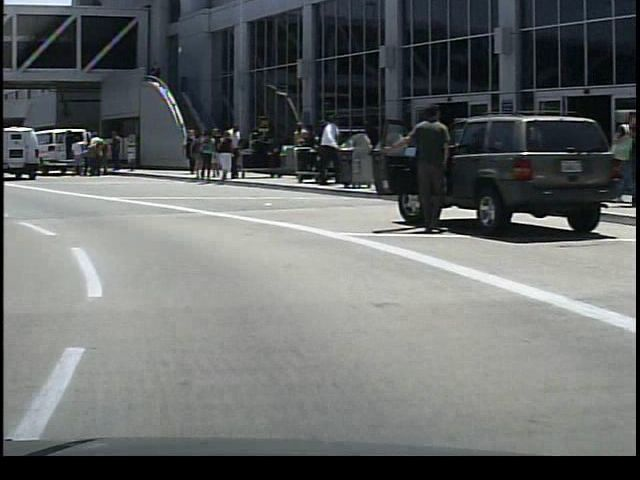person: (388, 87, 453, 238), (601, 106, 639, 209), (306, 110, 340, 196), (220, 122, 245, 181), (176, 124, 199, 175), (211, 129, 233, 180), (103, 129, 125, 176), (84, 130, 103, 181), (68, 135, 86, 179)
